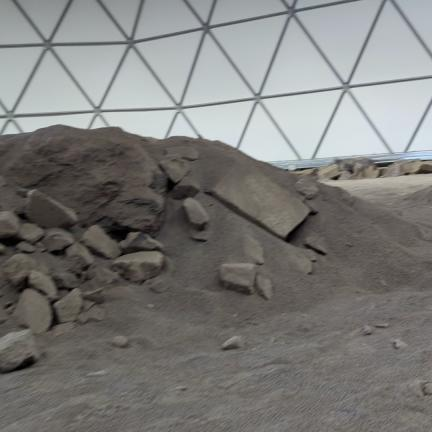Rock: (5, 131, 166, 221), (210, 166, 309, 239), (107, 186, 165, 233), (25, 190, 78, 228), (14, 289, 53, 333), (0, 330, 39, 372), (112, 252, 164, 282), (82, 225, 121, 259), (3, 254, 39, 287), (219, 263, 257, 294), (53, 288, 83, 323), (120, 232, 163, 253), (28, 270, 58, 300), (183, 198, 209, 230), (66, 243, 94, 272), (159, 156, 189, 183), (42, 229, 74, 252), (172, 176, 200, 199), (244, 235, 264, 264), (0, 211, 20, 239), (165, 145, 198, 161), (18, 224, 45, 243), (52, 271, 79, 289), (78, 305, 105, 323), (295, 179, 318, 199), (256, 274, 272, 299), (305, 236, 327, 254), (318, 164, 341, 181), (83, 288, 105, 303), (222, 336, 245, 350), (190, 227, 211, 241), (149, 280, 169, 293), (108, 336, 129, 347), (16, 242, 36, 253), (363, 166, 380, 178), (304, 200, 318, 214), (392, 339, 407, 349), (0, 306, 8, 324), (83, 300, 95, 311), (0, 243, 6, 255), (363, 326, 371, 335), (174, 386, 187, 391), (375, 323, 388, 327), (147, 304, 155, 309)
